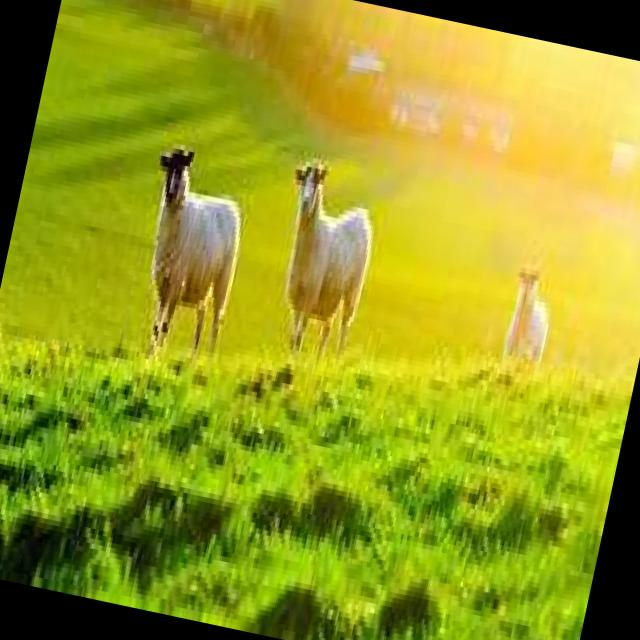animal: (119, 138, 259, 358), (258, 152, 386, 368), (498, 264, 559, 367)
